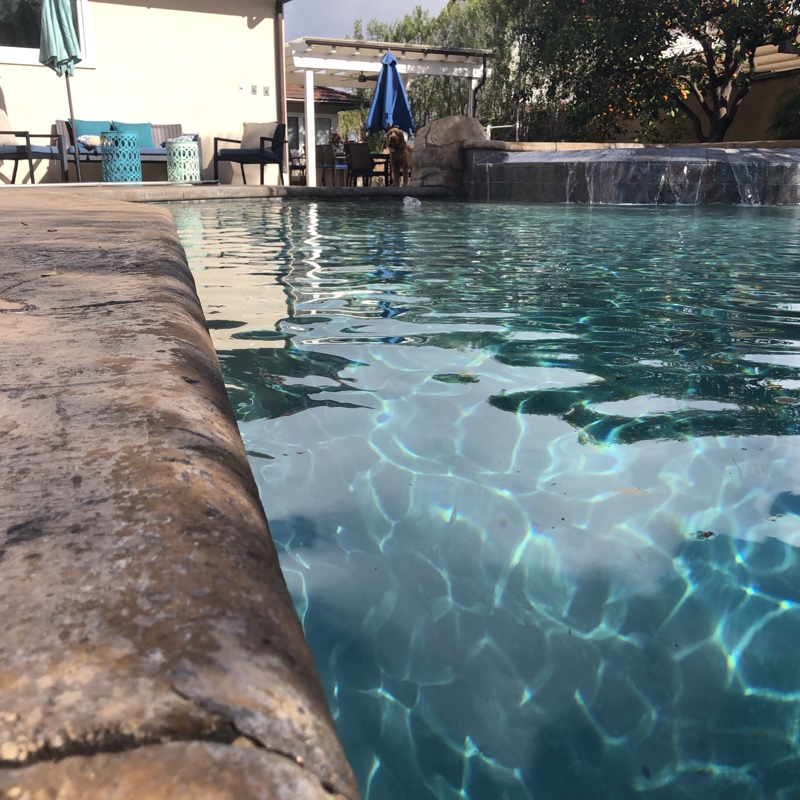Plastic Bottle: (401, 192, 422, 209)
